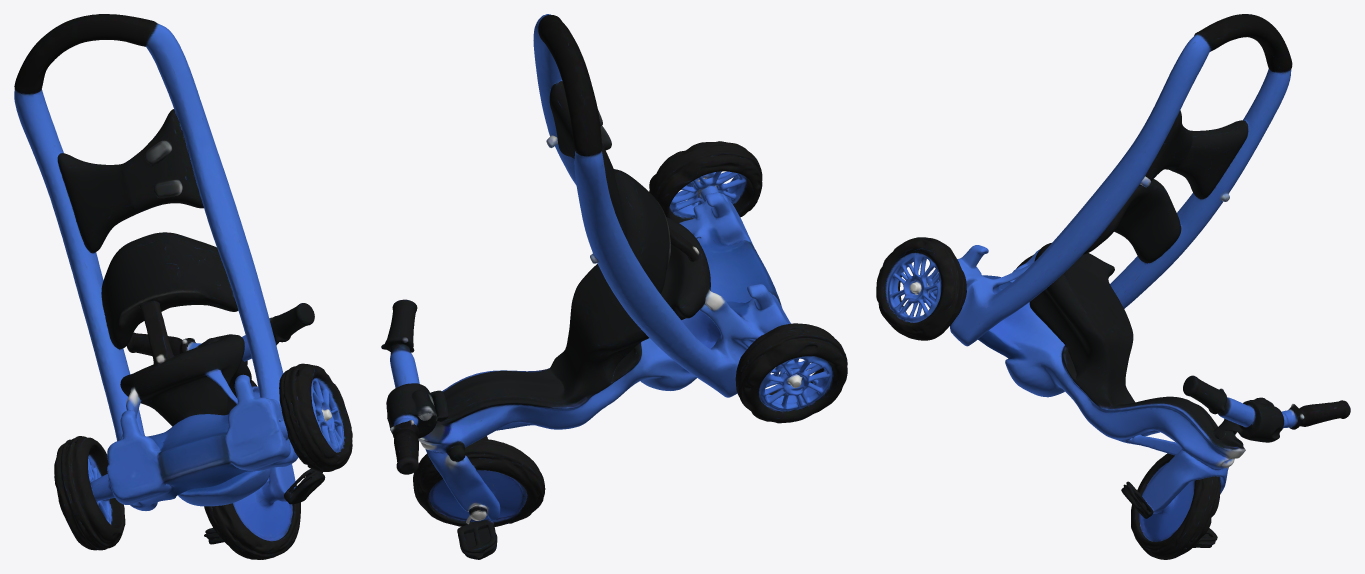
The model's file is pixal3d.glb.
The picture shows the model from 3 angles, left to right: view 1: azimuth 30°, elevation 25°; view 2: azimuth 150°, elevation 25°; view 3: azimuth 270°, elevation 25°; orthographic projection. The views are drawn at different scales.
Parts seen in each view (by area): view 1: world; view 2: world; view 3: world.
Part boxes in pixels (bbox=[...]): world: bbox=[14, 14, 352, 559]; world: bbox=[381, 14, 847, 559]; world: bbox=[876, 14, 1350, 559].
Bounding box in the file's own units: 0.5669 × 0.8498 × 0.7525.
1 material, 1 textured.
